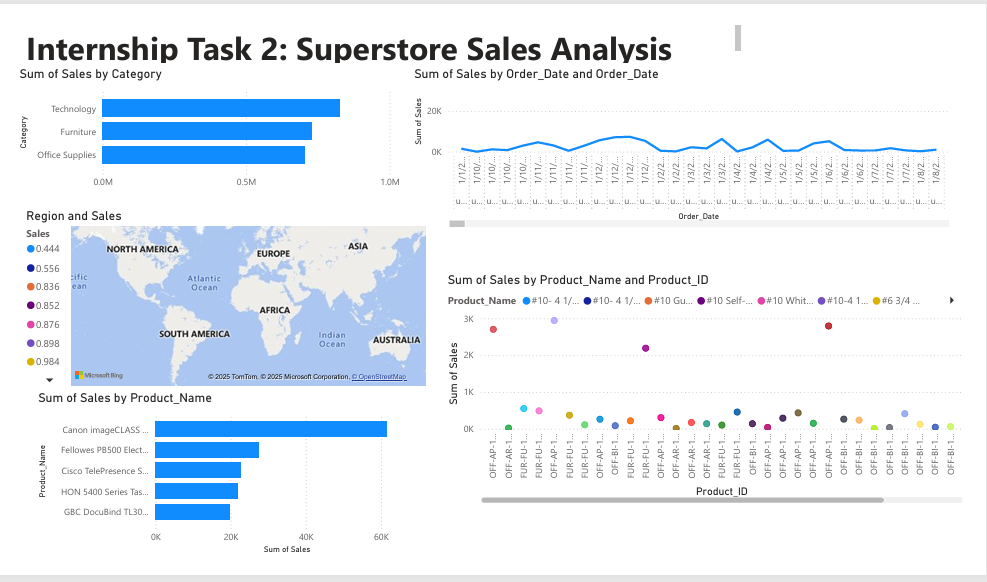

Layout of this report page (visuals, bound fields, positions):
{"tool":"powerbi","page":{"name":"Page 2","canvas":[1280,720],"ordinal":0},"visuals":[{"type":"textbox","box":[9.4,0,971.3,60.5],"z":0},{"type":"clusteredBarChart","fields":{"Category":["superstore_final_dataset.Category"],"Y":["Sum(superstore_final_dataset.Sales)"]},"box":[0,60.5,521.6,173.9],"z":1},{"type":"lineChart","fields":{"Category":["superstore_final_dataset.Order_Date","superstore_final_dataset.Order_Date Hierarchy.Order_Date"],"Y":["Sum(superstore_final_dataset.Sales)"]},"box":[531,60.5,729.5,219.2],"z":2},{"type":"filledMap","fields":{"Category":["superstore_final_dataset.Region"],"Series":["superstore_final_dataset.Sales"]},"box":[9.4,251.3,548,243.8],"z":3},{"type":"clusteredBarChart","fields":{"Y":["Sum(superstore_final_dataset.Sales)"],"Category":["superstore_final_dataset.Product_Name"]},"box":[24.6,495.1,532.9,224.9],"z":4},{"type":"scatterChart","fields":{"X":["superstore_final_dataset.Product_ID"],"Y":["Sum(superstore_final_dataset.Sales)"],"Series":["superstore_final_dataset.Product_Name"]},"box":[576.4,336.4,703,315.6],"z":5}]}

Visuals, with their boxes on the page's 1280x720 design canvas (x1, y1, x2, y2). These are canvas units, not pixel positions in the 987x582 screenshot, which may show the page scaled, cropped or inside an application window:
textbox: region(9, 0, 981, 60)
clusteredBarChart - superstore_final_dataset.Category x Sum(superstore_final_dataset.Sales): region(0, 60, 522, 234)
lineChart - superstore_final_dataset.Order_Date x superstore_final_dataset.Order_Date Hierarchy.Order_Date: region(531, 60, 1260, 280)
filledMap - superstore_final_dataset.Region x superstore_final_dataset.Sales: region(9, 251, 557, 495)
clusteredBarChart - Sum(superstore_final_dataset.Sales) x superstore_final_dataset.Product_Name: region(25, 495, 558, 720)
scatterChart - superstore_final_dataset.Product_ID x Sum(superstore_final_dataset.Sales): region(576, 336, 1279, 652)
